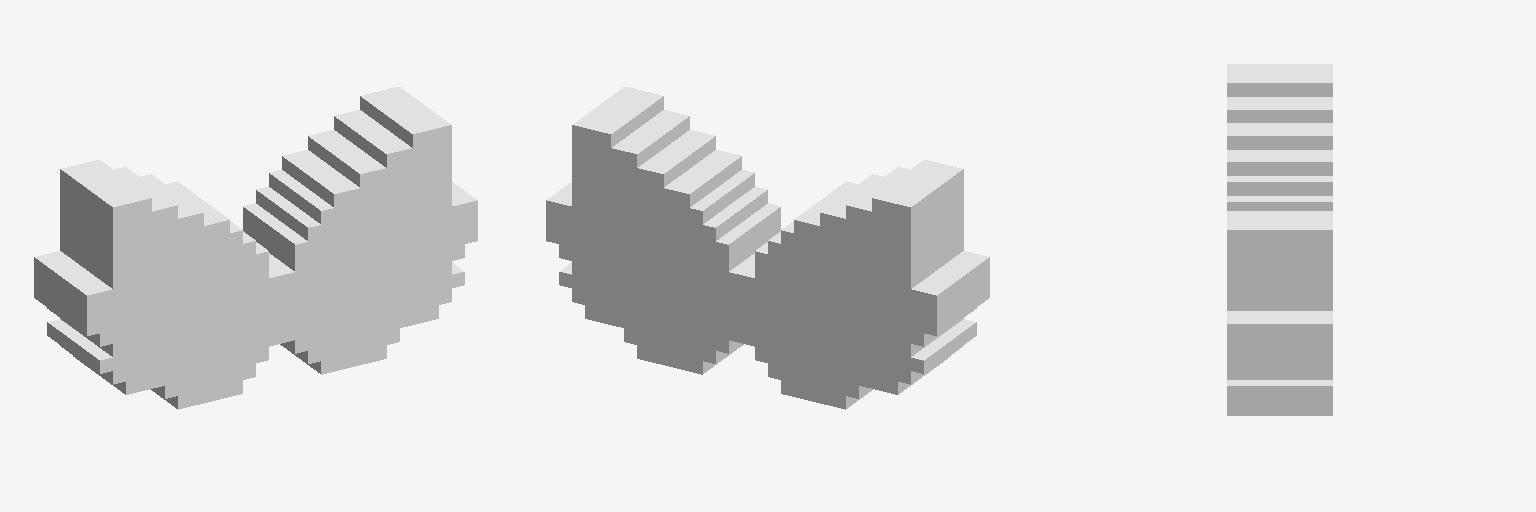
The model's file is Boost.obj.
The picture shows the model from 3 angles: view 1: azimuth 30°, elevation 25°; view 2: azimuth 150°, elevation 25°; view 3: azimuth 270°, elevation 25°; orthographic projection.
Bounding box in the file's own units: 30 × 16 × 7.